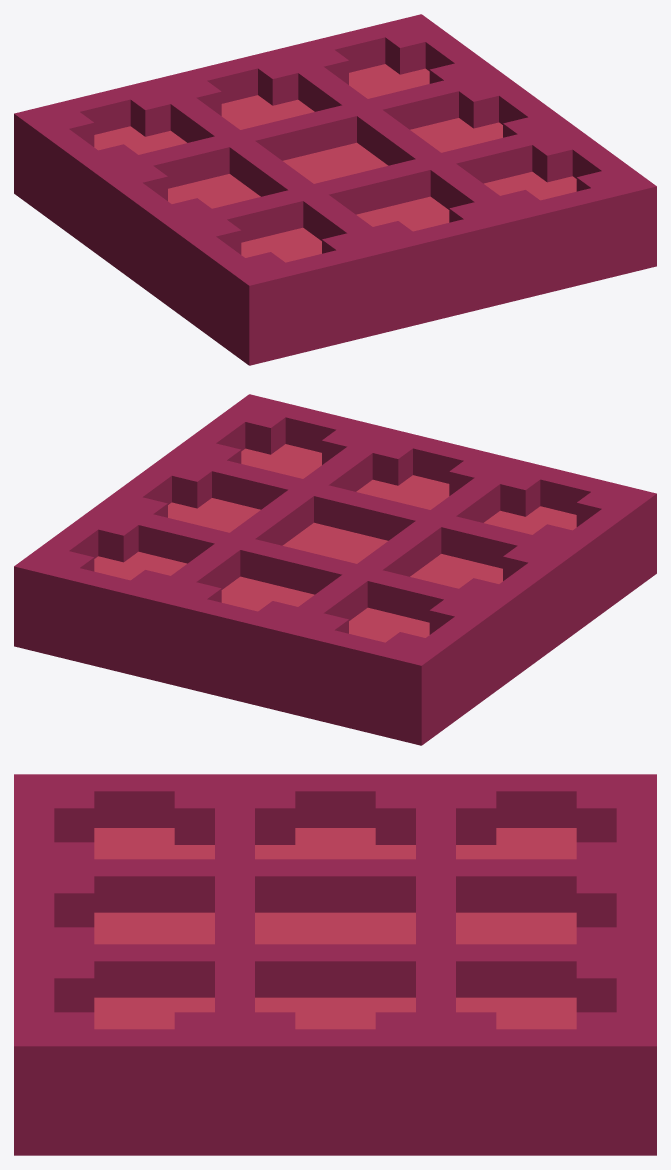
Rendered from roof_raised.obj.
3 renders of one model, top to bottom at view 1: azimuth 30°, elevation 25°; view 2: azimuth 150°, elevation 25°; view 3: azimuth 270°, elevation 25°, orthographic. The views are drawn at different scales.
Parts seen in each view (by area): view 1: roof_raised; view 2: roof_raised; view 3: roof_raised.
Boxes of the visible parts, bbox=[...] form: roof_raised: bbox=[14, 14, 656, 365]; roof_raised: bbox=[14, 394, 656, 745]; roof_raised: bbox=[14, 774, 656, 1155].
Bounding box in the file's own units: 9.43 × 1.77 × 9.43.
Materials: 1 (1 with a texture image).
